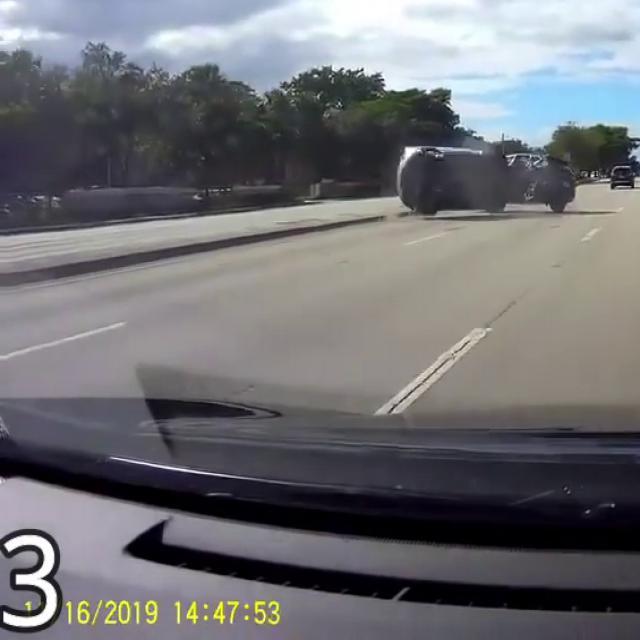accident: (378, 134, 580, 224)
